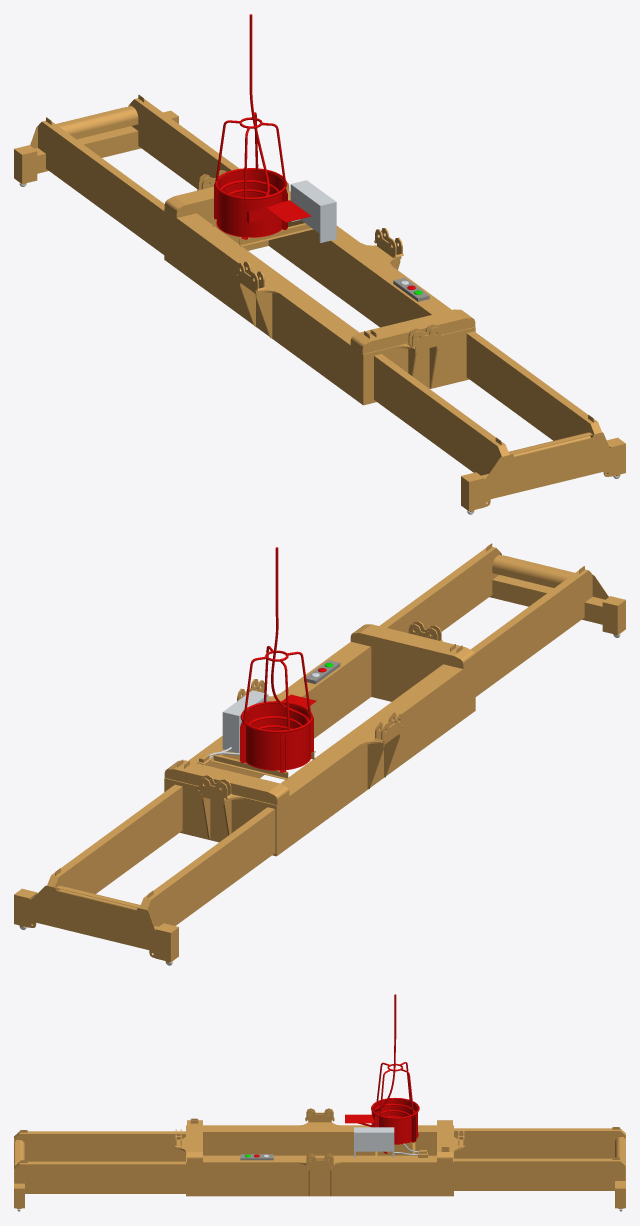
The model's file is Spreader 1.fbx.
3 views of the same model, one above another, from view 1: azimuth 30°, elevation 25°; view 2: azimuth 150°, elevation 25°; view 3: azimuth 270°, elevation 25° (orthographic). The views are drawn at different scales.
Visible parts, largest first — view 1: spreader.000, spreader.002, spreader.001, 135, 137; view 2: spreader.000, spreader.001, spreader.002, 135, 137; view 3: spreader.000, spreader.001, spreader.002, 135, 137.
Boxes of the visible parts, x1,y1,x2,y2 form: spreader.000: (164,170,475,405); spreader.002: (374,331,625,511); spreader.001: (14,94,239,254); 135: (214,112,287,239); 137: (220,14,278,195); spreader.000: (164,621,475,856); spreader.001: (14,784,275,962); spreader.002: (379,543,625,696); 135: (239,646,313,772); 137: (248,547,308,729); spreader.000: (175,1108,464,1196); spreader.001: (454,1127,625,1208); spreader.002: (14,1130,185,1208); 135: (371,1062,419,1144); 137: (374,994,415,1153).
Size of the model in its own units: 243 by 414 by 1218.
